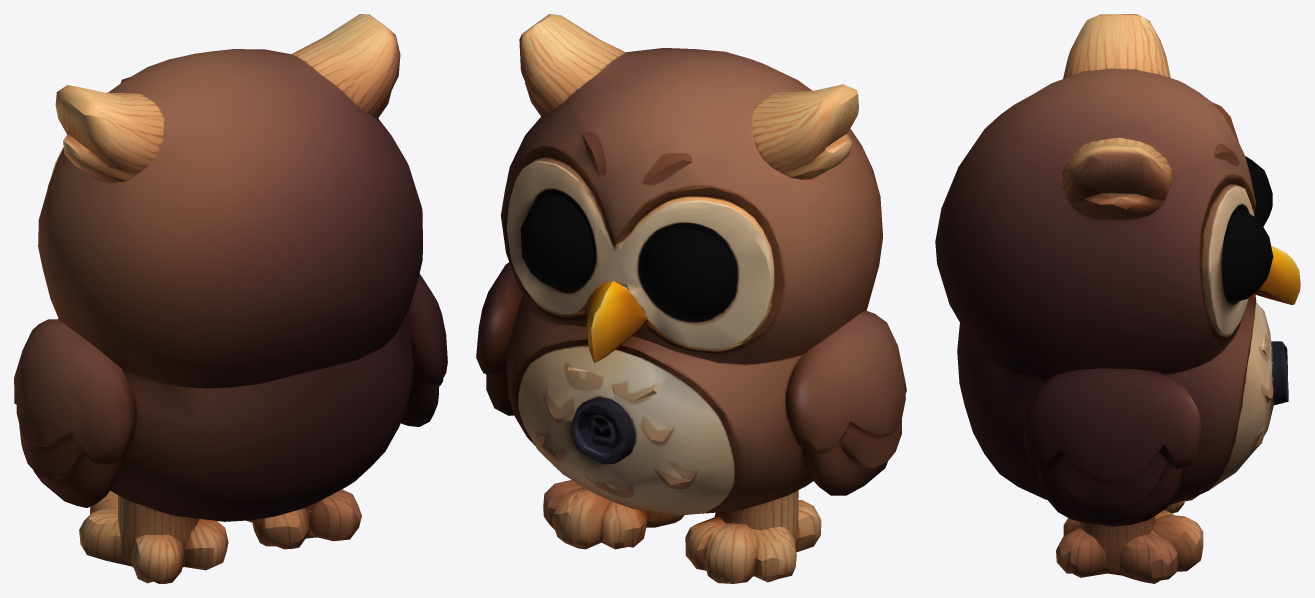
The model's file is owl_lo.glb.
3 renders of one model, left to right at view 1: azimuth 30°, elevation 25°; view 2: azimuth 150°, elevation 25°; view 3: azimuth 270°, elevation 25°, orthographic. The views are drawn at different scales.
Parts seen in each view (by area): view 1: Pet; view 2: Pet; view 3: Pet.
Boxes of the visible parts, x1,y1,x2,y2 form: Pet: (14,14,447,583); Pet: (476,14,906,583); Pet: (935,14,1300,583).
Size of the model in its own units: 0.8715 by 1 by 0.7312.
1 material, 1 textured.
